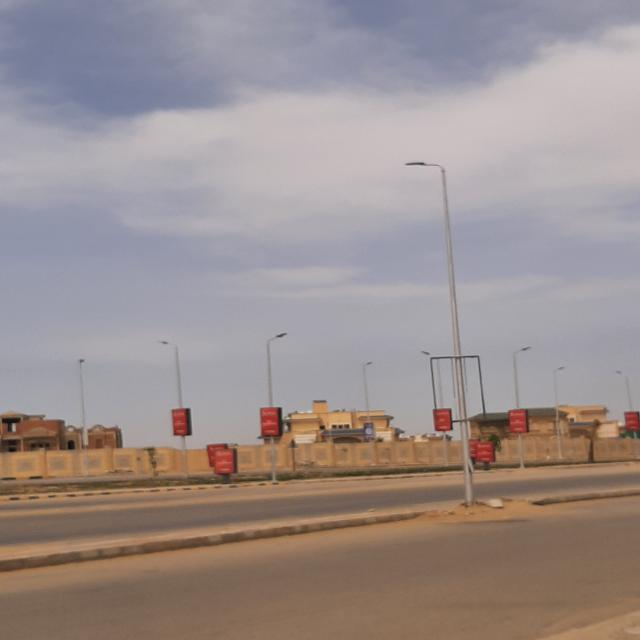Street Light: (404, 162, 476, 503), (157, 341, 189, 478), (266, 331, 286, 481), (512, 346, 534, 468), (78, 359, 90, 477), (554, 366, 564, 459)
